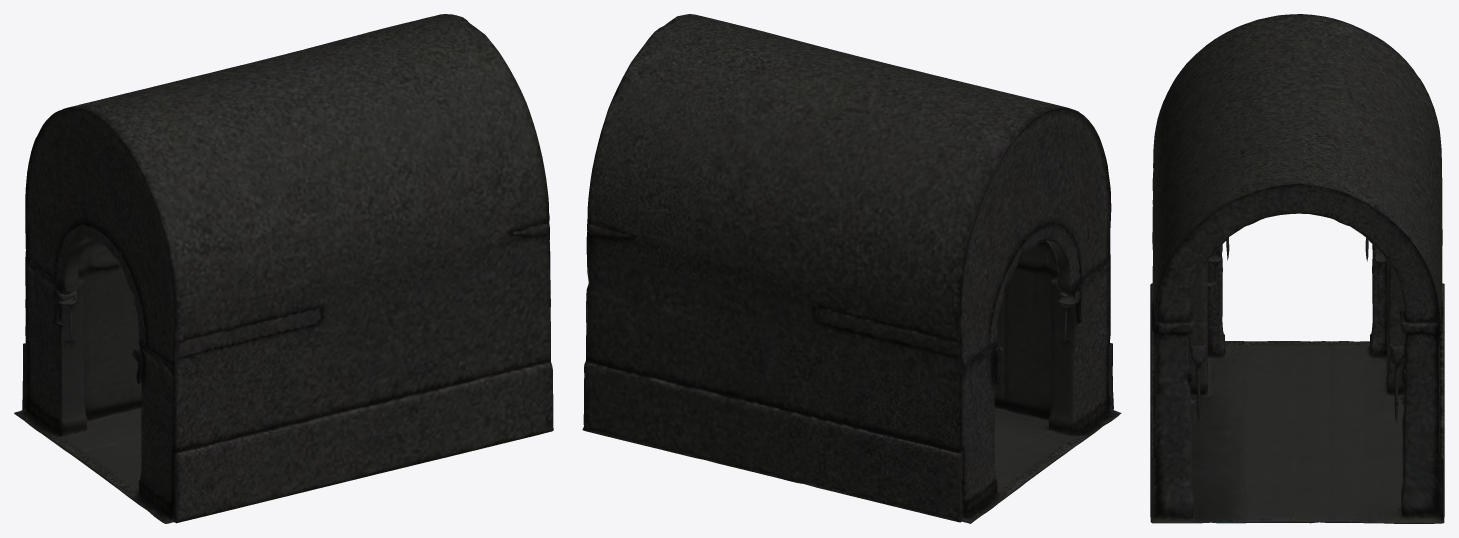
File: tripo_convert_2c680c6c-4195-4085-9284-87893898d01f.fbx
3 renders of one model, left to right at view 1: azimuth 30°, elevation 25°; view 2: azimuth 150°, elevation 25°; view 3: azimuth 270°, elevation 25°, orthographic. The views are drawn at different scales.
Parts seen in each view (by area): view 1: tripo_node_2c680c6c; view 2: tripo_node_2c680c6c; view 3: tripo_node_2c680c6c.
Part boxes in pixels (bbox=[...]): tripo_node_2c680c6c: bbox=[14, 14, 553, 523]; tripo_node_2c680c6c: bbox=[582, 14, 1121, 523]; tripo_node_2c680c6c: bbox=[1150, 14, 1444, 523].
Size of the model in its own units: 0.9987 by 0.8676 by 0.6862.
1 material, 1 textured.
